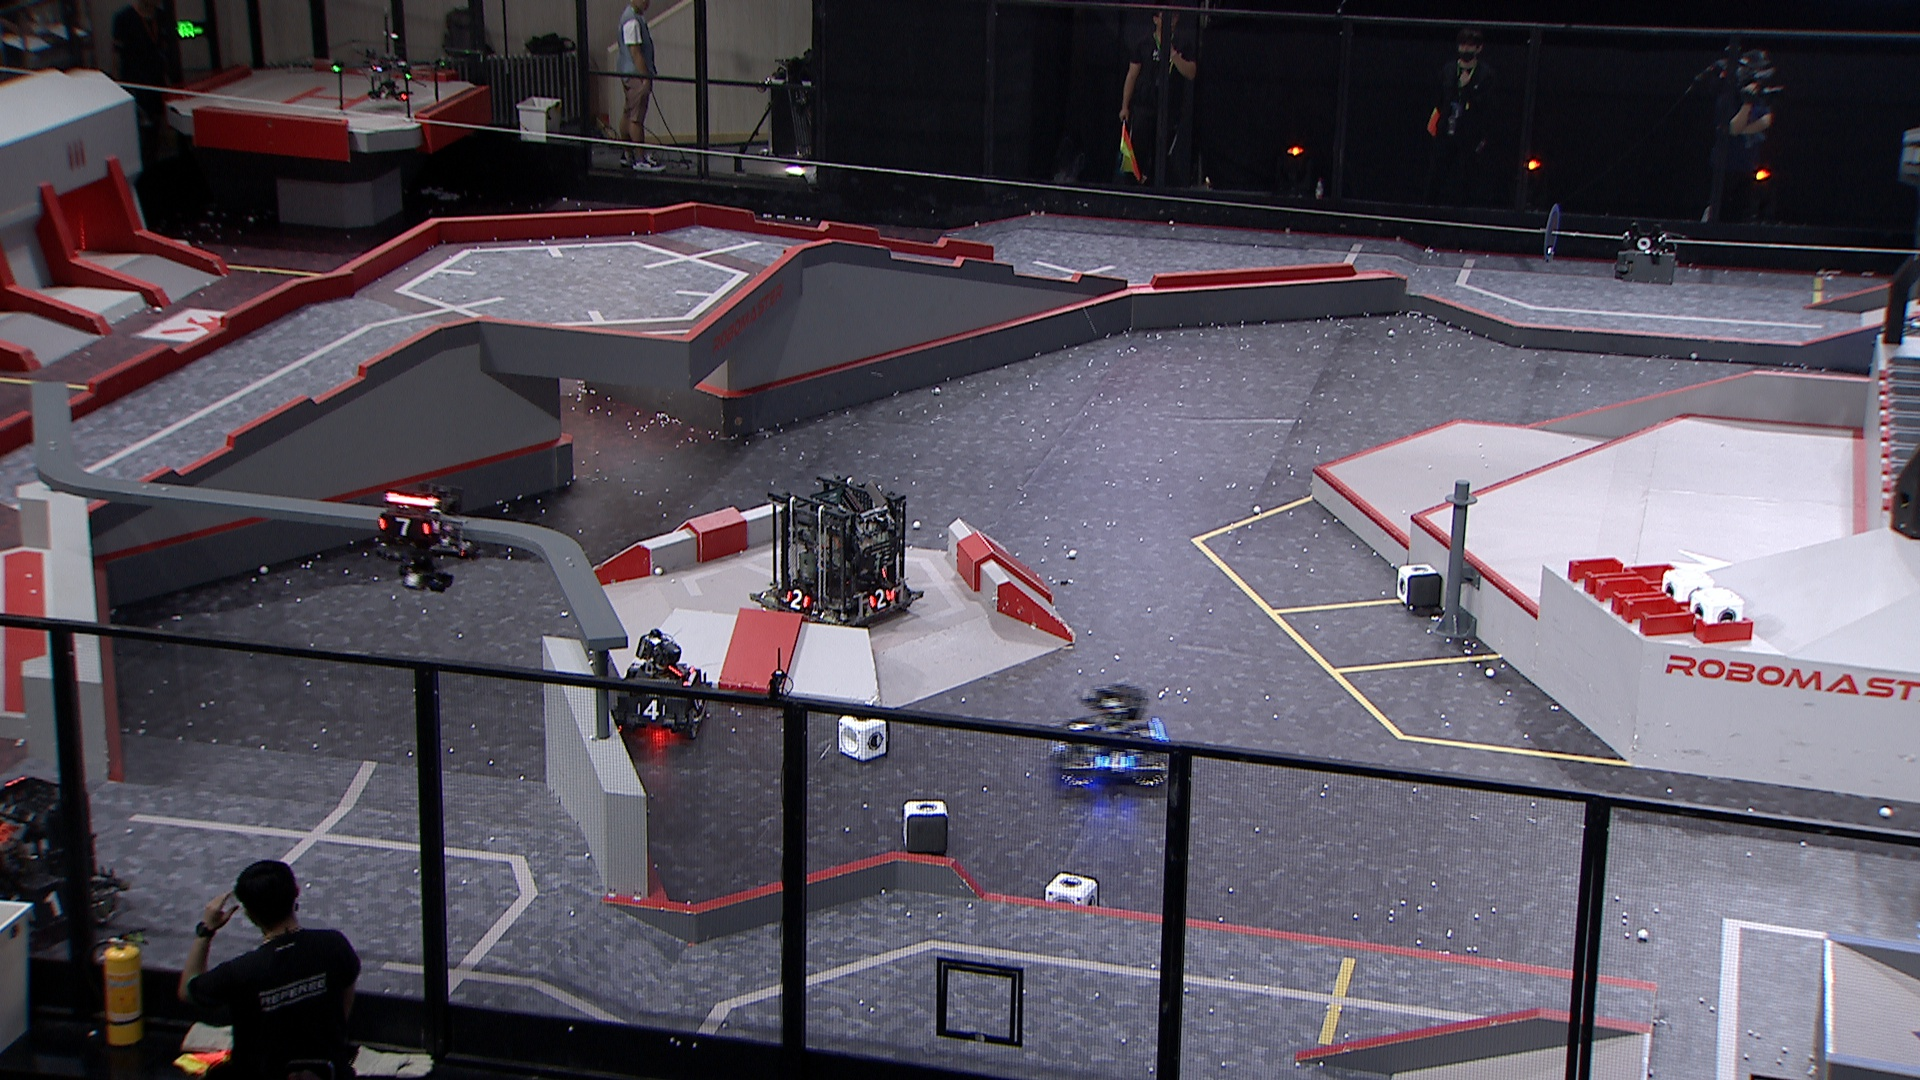armor: (26, 889, 69, 924), (377, 514, 430, 541), (1091, 752, 1138, 775), (636, 700, 670, 723), (1067, 717, 1098, 740), (785, 589, 811, 612), (868, 588, 893, 609)
car: (752, 473, 926, 632), (1048, 683, 1171, 793), (605, 626, 712, 738)
watcher: (371, 485, 472, 595)
